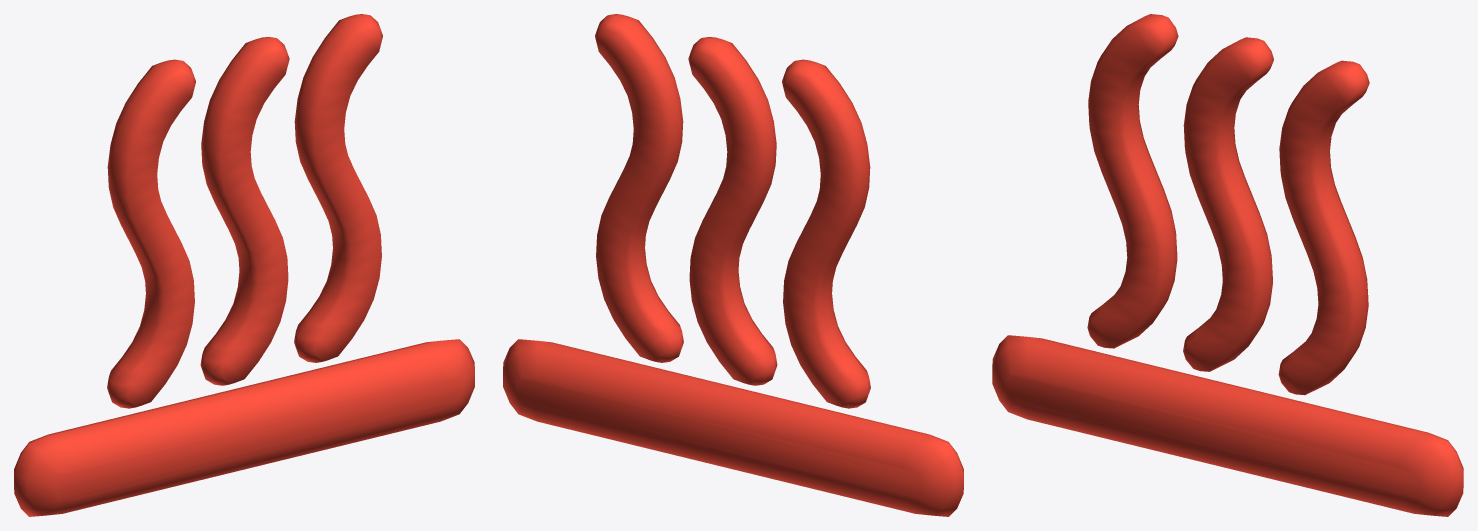
Rendered from Heat Up Icon B.fbx.
3 renders of one model, left to right at view 1: azimuth 30°, elevation 25°; view 2: azimuth 150°, elevation 25°; view 3: azimuth 330°, elevation 25°, orthographic. The views are drawn at different scales.
Parts seen in each view (by area): view 1: Heat Up B; view 2: Heat Up B; view 3: Heat Up B.
Boxes of the visible parts, <box> form: Heat Up B: <box>14,14,474,516</box>; Heat Up B: <box>503,14,963,516</box>; Heat Up B: <box>992,14,1463,516</box>.
Size of the model in its own units: 1.06 by 0.9318 by 0.1132.
